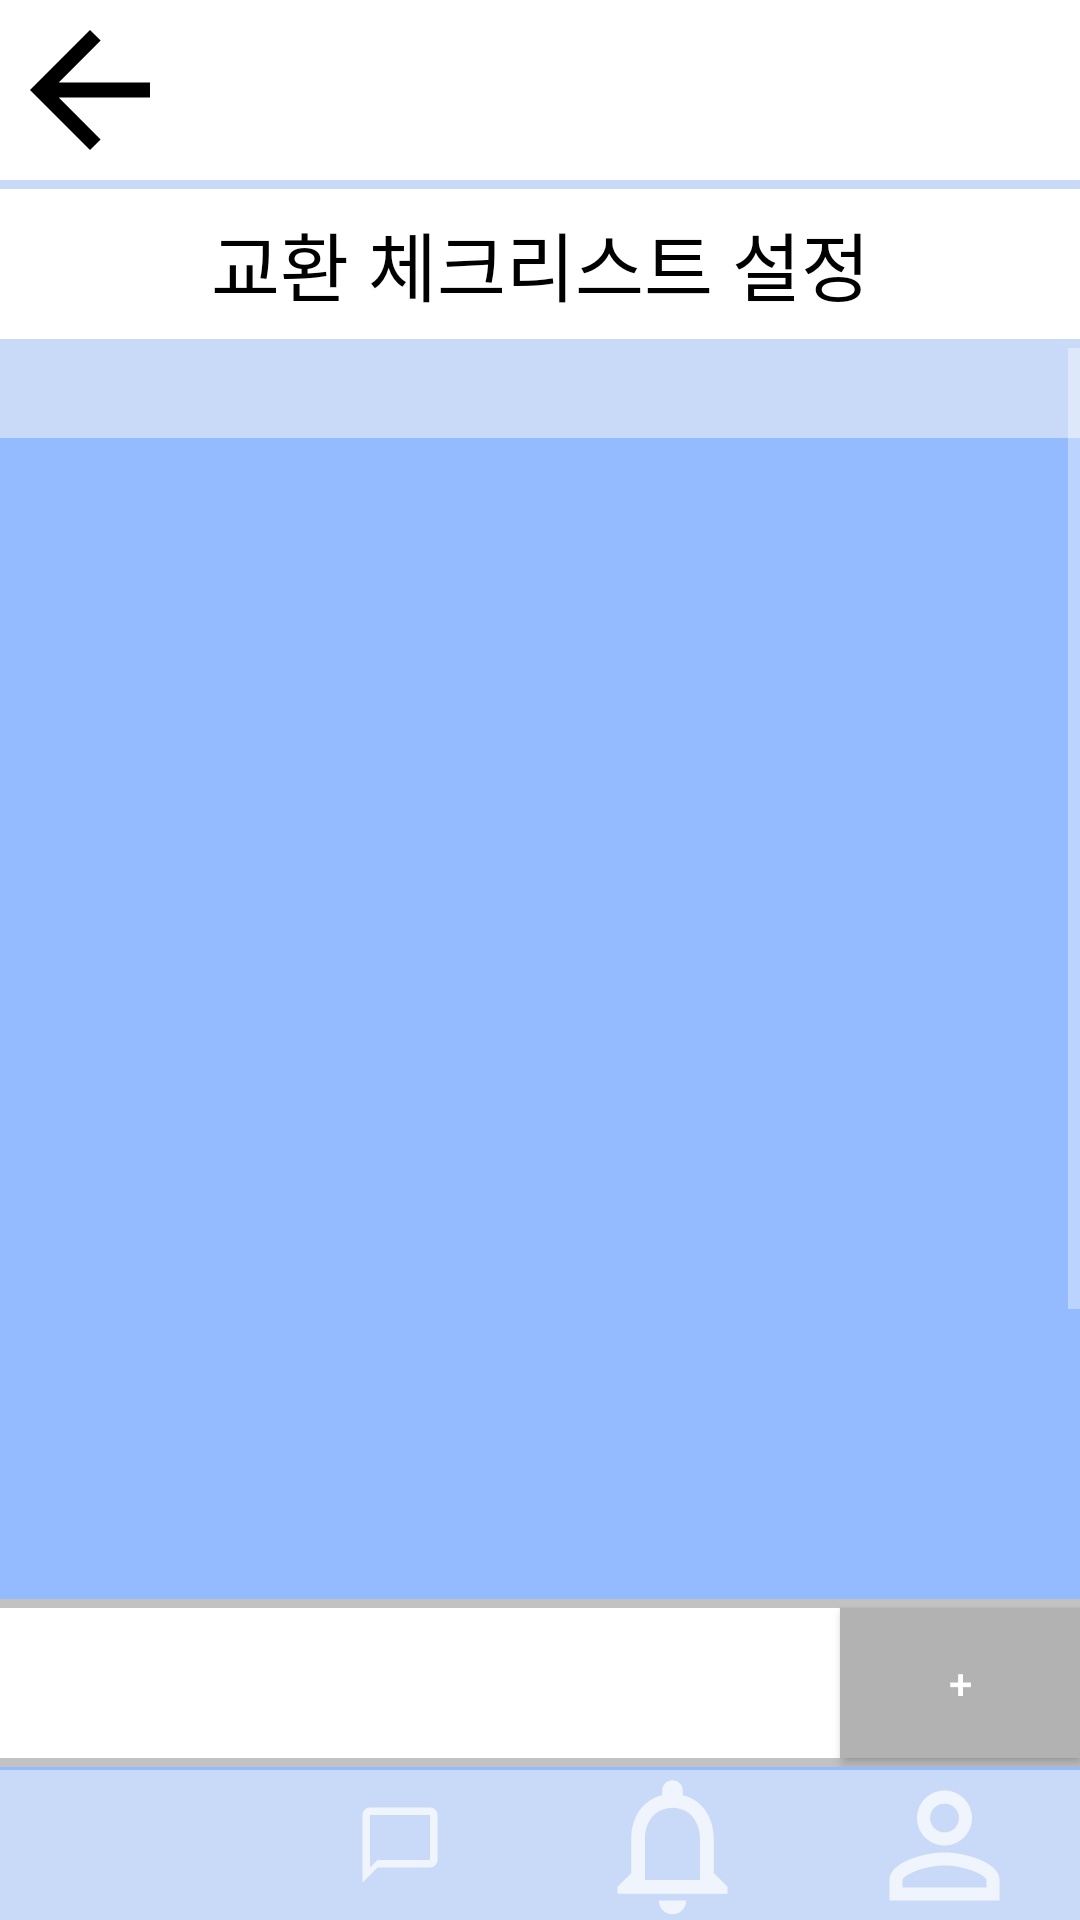

Screen size 1080w x 1920h. Icon name, then its center in pixels as [x,y]:
arrow back: [90,90]
chat bubble: [400,1844]
notifications none: [672,1847]
person: [944,1845]
